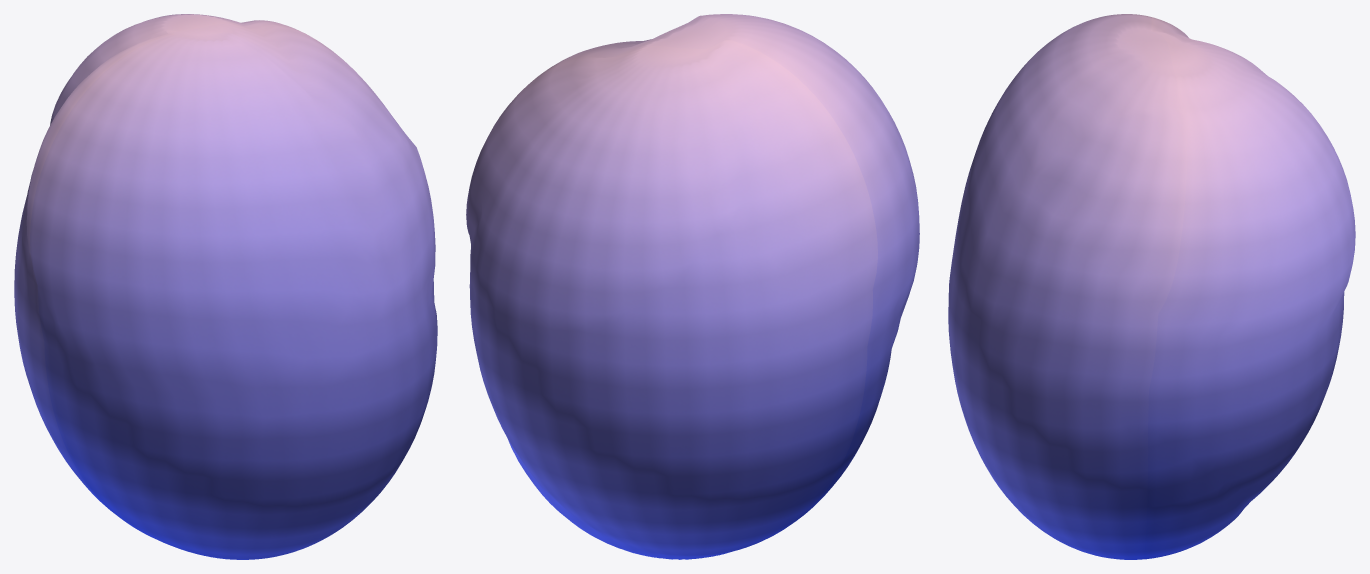
Rendered from Mode-03-Base.gltf.
The picture shows the model from 3 angles, left to right: view 1: azimuth 30°, elevation 25°; view 2: azimuth 150°, elevation 25°; view 3: azimuth 270°, elevation 25°; orthographic projection. The views are drawn at different scales.
Parts seen in each view (by area): view 1: Organism; view 2: Organism; view 3: Organism.
Part boxes in pixels (bbox=[...]): Organism: bbox=[14, 14, 437, 559]; Organism: bbox=[466, 14, 919, 559]; Organism: bbox=[948, 14, 1355, 559].
Bounding box in the file's own units: 1.72 × 2.23 × 1.68.
1 material, 1 textured.
